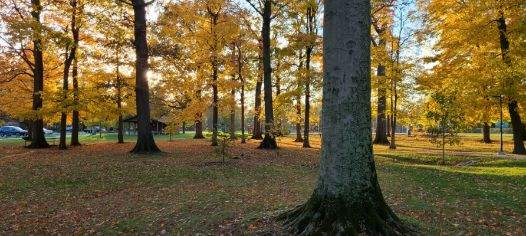tree: (295, 3, 395, 233), (130, 1, 160, 154), (497, 1, 525, 153), (469, 2, 494, 144), (259, 1, 282, 150), (28, 1, 50, 149), (429, 72, 459, 167), (375, 2, 390, 149), (108, 32, 127, 143), (192, 14, 206, 141), (210, 8, 220, 147), (56, 27, 67, 150), (69, 45, 82, 147), (252, 33, 264, 139), (227, 14, 237, 141), (303, 1, 311, 149), (296, 6, 303, 143)
